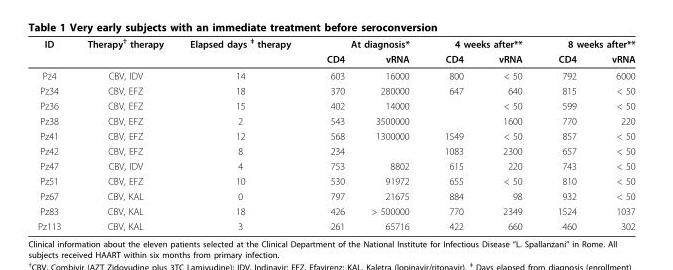table: (36, 36, 634, 231)
table column: (176, 36, 308, 231), (73, 36, 176, 231), (357, 36, 426, 231), (480, 36, 539, 231), (426, 36, 480, 231), (539, 36, 593, 231), (308, 36, 357, 231), (593, 36, 634, 231), (36, 36, 73, 231)
table column header: (36, 36, 634, 67)
table row: (36, 51, 634, 67), (36, 97, 634, 113), (36, 36, 634, 51), (36, 67, 634, 82), (36, 82, 634, 97), (36, 113, 634, 128), (36, 128, 634, 143), (36, 143, 634, 158), (36, 158, 634, 173), (36, 173, 634, 188), (36, 188, 634, 203), (36, 203, 634, 218), (36, 218, 634, 231)
table spanning cell: (176, 36, 308, 67), (73, 36, 176, 67), (308, 36, 426, 51), (426, 36, 539, 51), (539, 36, 634, 51), (36, 36, 73, 67)
